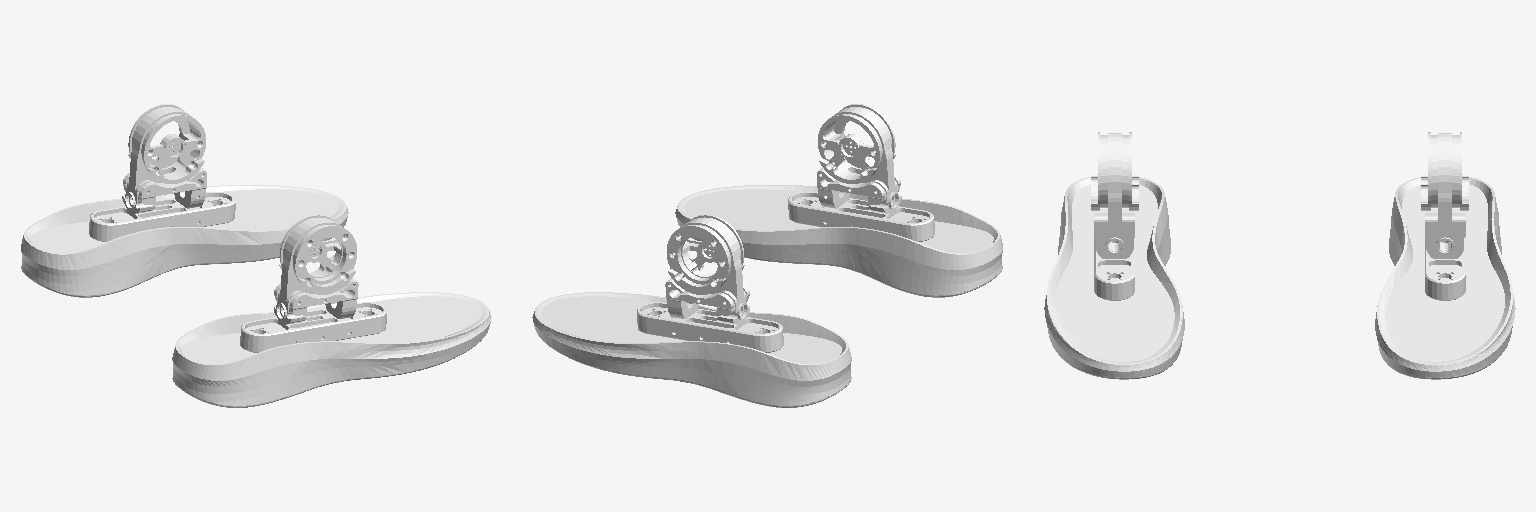
robot.urdf — x2:
<robot name="x2">
  <mujoco>
    <compiler meshdir="./meshes" discardvisual="false" />
  </mujoco>


  <link name="pelvis_link">
    <inertial>
      <origin xyz="0 0 0.001" rpy="0 0 0" />
      <mass value="12.1" />
      <inertia ixx="0.00003053" ixy="0.0000000" ixz="0.00000000" iyy="0.00003053" iyz="0.00000000" izz="0.00000500" />
    </inertial>
    <visual>
      <origin xyz="0 0 0" rpy="0 0 0" />
      <geometry>
        <mesh filename="meshes/pelvis_link.STL" />
      </geometry>
      <material name="">
        <color rgba="1 1 1 1" />
      </material>
    </visual>
    <collision>
      <origin xyz="0 0 0" rpy="0 0 0" />
      <geometry>
        <mesh filename="meshes/pelvis_link.STL" />
      </geometry>
    </collision>
  </link>
  <link name="L_hip_yaw_link">
    <inertial>
      <origin xyz="-0.0005618 0.01983101 0.00885104" rpy="0 0 0" />
      <mass value="0.841" />
      <inertia ixx="0.00175231" ixy="0.00003788" ixz="0.00000418" iyy="0.00059335" iyz="-0.00014762" izz="0.00173830" />
    </inertial>
    <visual>
      <origin xyz="0 0 0" rpy="0 0 0" />
      <geometry>
        <mesh filename="meshes/L_hip_yaw_link.STL" />
      </geometry>
      <material name="">
        <color rgba="1 1 1 1" />
      </material>
    </visual>
<!--    <collision>-->
<!--      <origin xyz="0 0 0" rpy="0 0 0" />-->
<!--      <geometry>-->
<!--        <mesh filename="meshes/L_hip_yaw_link.STL" />-->
<!--      </geometry>-->
<!--    </collision> &ndash;&gt;-->
  </link>
  <joint name="L_hip_yaw" type="revolute">
    <origin xyz="0 0 0" rpy="0 0 0" />
    <parent link="pelvis_link" />
    <child link="L_hip_yaw_link" />
    <axis xyz="0 0 1" />
    <limit lower="-0.7854" upper="0.7854" effort="100" velocity="30" />
  </joint>
  <link name="L_hip_roll_link">
    <inertial>
      <origin xyz="-0.03247252 0.00017925 -0.07264839" rpy="0 0 0" />
      <mass value="2.667" />
      <inertia ixx="0.007970422" ixy="-0.00001767" ixz="0.00171027" iyy="0.01086223" iyz="-0.00001804" izz="0.00754180" />
    </inertial>
    <visual>
      <origin xyz="0 0 0" rpy="0 0 0" />
      <geometry>
        <mesh filename="meshes/L_hip_roll_link.STL" />
      </geometry>
      <material name="">
        <color rgba="1 1 1 1" />
      </material>
    </visual>
    <collision>
      <origin xyz="0 0 0" rpy="0 0 0" />
      <geometry>
        <mesh filename="meshes/L_hip_roll_link.STL" />
      </geometry>
    </collision> -->
  </link>
  <joint name="L_hip_roll" type="revolute">
    <origin xyz="-0.0095 0.12 0" rpy="0 0 0" />
    <parent link="L_hip_yaw_link" />
    <child link="L_hip_roll_link" />
    <axis xyz="1 0 0" />
    <limit lower="-0.349" upper="0.524" effort="100" velocity="30" />
  </joint>
  <link name="L_hip_pitch_link">
    <inertial>
      <origin xyz="0.00382921 0 -0.18548450" rpy="0 0 0" />
      <mass value="1.664" />
      <inertia ixx="0.01443710" ixy="0.00000000" ixz="-0.00089513" iyy="0.01484426" iyz="-0.00000003" izz="0.00315739" />
    </inertial>
    <visual>
      <origin xyz="0 0 0" rpy="0 0 0" />
      <geometry>
        <mesh filename="meshes/L_hip_pitch_link.STL" />
      </geometry>
      <material name="">
        <color rgba="1 1 1 1" />
      </material>
    </visual>
    <collision>
      <origin xyz="0 0 0" rpy="0 0 0" />
      <geometry>
        <mesh filename="meshes/L_hip_pitch_link.STL" />
      </geometry>
    </collision>
  </link>
  <joint name="L_hip_pitch" type="revolute">
    <origin xyz="0.0085 -0.00100000000000001 -0.11" rpy="0 0 0" />
    <parent link="L_hip_roll_link" />
    <child link="L_hip_pitch_link" />
    <axis xyz="0 1 0" />
    <limit lower="-2.4434" upper="0.526" effort="100" velocity="30" />
  </joint>
  <link name="L_knee_pitch_link">
    <inertial>
      <origin xyz="0.00140265 0 -0.15875986" rpy="0 0 0" />
      <mass value="1.125" />
      <inertia ixx="0.00985892" ixy="0.00000000" ixz="0.00035856" iyy="0.00999859" iyz="-0.00000003" izz="0.00102379" />
    </inertial>
    <visual>
      <origin xyz="0 0 0" rpy="0 0 0" />
      <geometry>
        <mesh filename="meshes/L_knee_pitch_link.STL" />
      </geometry>
      <material name="">
        <color rgba="1 1 1 1" />
      </material>
    </visual>
    <collision>
      <origin xyz="0 0 0" rpy="0 0 0" />
      <geometry>
        <mesh filename="meshes/L_knee_pitch_link.STL" />
      </geometry>
    </collision>
  </link>
  <joint name="L_knee_pitch" type="revolute">
    <origin xyz="0 0 -0.35" rpy="0 0 0" />
    <parent link="L_hip_pitch_link" />
    <child link="L_knee_pitch_link" />
    <axis xyz="0 1 0" />
    <limit lower="-0" upper="2.3561" effort="100" velocity="30" />
  </joint>
  <link name="L_ankle_pitch_link">
    <inertial>
      <origin xyz="0.0393987623680991 -0.000237277713772188 -0.0784143417886232" rpy="0 0 0" />
      <mass value="0.556154115746433" />
       <inertia ixx="0.00032584056406277" ixy="-3.52704729229917E-06" ixz="-3.15470198590693E-05" iyy="0.00243296196329658" iyz="3.92516794179968E-07" izz="0.00260484732439791" />
<!--      <inertia ixx="0.01" ixy="0" ixz="-2.9E-06" iyy="0.01" iyz="0" izz="0.01"/>-->
    </inertial>
    <visual>
      <origin xyz="0 0 0" rpy="0 0.07 0" />
      <geometry>
        <mesh filename="meshes/L_ankle_pitch_link.STL" />
      </geometry>
      <material name="">
        <color rgba="1 1 1 1" />
      </material>
    </visual>
    <collision><origin xyz="-0.12   0     -0.095"/><geometry><sphere radius="0.005"/></geometry></collision>
    <collision><origin xyz="-0.09   0.039 -0.095"/><geometry><sphere radius="0.005"/></geometry></collision>
    <collision><origin xyz="-0.09  -0.039 -0.095"/><geometry><sphere radius="0.005"/></geometry></collision>
    <collision><origin xyz="0.12    0.035 -0.095"/><geometry><sphere radius="0.005"/></geometry></collision>
    <collision><origin xyz="0.12   -0.043 -0.095"/><geometry><sphere radius="0.005"/></geometry></collision>
    <collision><origin xyz="0.15   -0.01  -0.095"/><geometry><sphere radius="0.005"/></geometry></collision>
  </link>
  <joint name="L_ankle_pitch" type="revolute">
    <origin xyz="0 0 -0.35" rpy="0 0 0" />
    <parent link="L_knee_pitch_link" />
    <child link="L_ankle_pitch_link" />
    <axis xyz="0 1 0" />
    <limit lower="-1.2217" upper="1.2217" effort="50" velocity="30" />
  </joint>
  <link name="R_hip_yaw_link">
    <inertial>
      <origin xyz="-0.00116447172536395 -0.0404494528952502 1.93208404151757E-18" rpy="0 0 0" />
      <mass value="0.21920189004537" />
      <inertia ixx="0.00059823911672333" ixy="-1.52005393557497E-05" ixz="-6.79522760641359E-21" iyy="0.000157505412929931" iyz="2.64697796016969E-20" izz="0.000555362014045214" />
    </inertial>
    <visual>
      <origin xyz="0 0 0" rpy="0 0 0" />
      <geometry>
        <mesh filename="meshes/R_hip_yaw_link.STL" />
      </geometry>
      <material name="">
        <color rgba="1 1 1 1" />
      </material>
    </visual>
<!--    <collision>-->
<!--      <origin xyz="0 0 0" rpy="0 0 0" />-->
<!--      <geometry>-->
<!--        <mesh filename="meshes/R_hip_yaw_link.STL" />-->
<!--      </geometry>-->
<!--    </collision> &ndash;&gt;-->
  </link>
  <joint name="R_hip_yaw" type="revolute">
    <origin xyz="0 0 0" rpy="0 0 0" />
    <parent link="pelvis_link" />
    <child link="R_hip_yaw_link" />
    <axis xyz="0 0 1" />
    <limit lower="-0.7854" upper="0.7854" effort="100" velocity="30" />
  </joint>
  <link name="R_hip_roll_link">
    <inertial>
      <origin xyz="-0.03247252 0.00017925 -0.07264839" rpy="0 0 0" />
      <mass value="2.667" />
      <inertia ixx="0.007970422" ixy="-0.00001767" ixz="0.00171027" iyy="0.01086223" iyz="-0.00001804" izz="0.00754180" />
    </inertial>
    <visual>
      <origin xyz="0 0 0" rpy="0 0 0" />
      <geometry>
        <mesh filename="meshes/R_hip_roll_link.STL" />
      </geometry>
      <material name="">
        <color rgba="1 1 1 1" />
      </material>
    </visual>
    <collision>
      <origin xyz="0 0 0" rpy="0 0 0" />
      <geometry>
        <mesh filename="meshes/R_hip_roll_link.STL" />
      </geometry>
    </collision> -->
  </link>
  <joint name="R_hip_roll" type="revolute">
    <origin xyz="-0.0095 -0.12 0" rpy="0 0 0" />
    <parent link="R_hip_yaw_link" />
    <child link="R_hip_roll_link" />
    <axis xyz="1 0 0" />
    <limit lower="-0.524" upper="0.349" effort="100" velocity="30" />
  </joint>
  <link name="R_hip_pitch_link">
    <inertial>
      <origin xyz="0.00382921 0 -0.1854850" rpy="0 0 0" />
      <mass value="1.664" />
      <inertia ixx="0.01443710" ixy="-0.00000000" ixz="-0.00089513" iyy="0.01484426" iyz="0.00000003" izz="0.00315739" />
    </inertial>
    <visual>
      <origin xyz="0 0 0" rpy="0 0 0" />
      <geometry>
        <mesh filename="meshes/R_hip_pitch_link.STL" />
      </geometry>
      <material name="">
        <color rgba="1 1 1 1" />
      </material>
    </visual>
    <collision>
      <origin xyz="0 0 0" rpy="0 0 0" />
      <geometry>
        <mesh filename="meshes/R_hip_pitch_link.STL" />
      </geometry>
    </collision>
  </link>
  <joint name="R_hip_pitch" type="revolute">
    <origin xyz="0.0085 -0.001 -0.11" rpy="0 0 0" />
    <parent link="R_hip_roll_link" />
    <child link="R_hip_pitch_link" />
    <axis xyz="0 1 0" />
    <limit lower="-2.4434" upper="0.526" effort="100" velocity="30" />
  </joint>
  <link name="R_knee_pitch_link">
    <inertial>
      <origin xyz="0.00140265 0 -0.15875986" rpy="0 0 0" />
      <mass value="1.125" />
      <inertia ixx="0.00985892" ixy="-0.00000000" ixz="0.00035856" iyy="0.00999859" iyz="0.00000003" izz="0.00102379" />
    </inertial>
    <visual>
      <origin xyz="0 0 0" rpy="0 0 0" />
      <geometry>
        <mesh filename="meshes/R_knee_pitch_link.STL" />
      </geometry>
      <material name="">
        <color rgba="1 1 1 1" />
      </material>
    </visual>
    <collision>
      <origin xyz="0 0 0" rpy="0 0 0" />
      <geometry>
        <mesh filename="meshes/R_knee_pitch_link.STL" />
      </geometry>
    </collision>
  </link>
  <joint name="R_knee_pitch" type="revolute">
    <origin xyz="0 0 -0.35" rpy="0 0 0" />
    <parent link="R_hip_pitch_link" />
    <child link="R_knee_pitch_link" />
    <axis xyz="0 1 0" />
    <limit lower="-0" upper="2.3561" effort="100" velocity="30" />
  </joint>
  <link name="R_ankle_pitch_link">
    <inertial>
      <origin xyz="0.0393998134614837 0.000237080400869755 -0.078414481781949" rpy="0 0 0" />
      <mass value="0.556160945494453" />
       <inertia ixx="0.00032584056406277" ixy="3.52704729229917E-06" ixz="-3.15470198590693E-05" iyy="0.00243296196329658" iyz="-3.92516794179968E-07" izz="0.00260484732439791" />
<!--      <inertia ixx="0.01" ixy="0" ixz="-2.9E-06" iyy="0.01" iyz="0" izz="0.01"/>-->
    </inertial>
    <visual>
      <origin xyz="0 0 0" rpy="0 0.07 0" />
      <geometry>
        <mesh filename="meshes/R_ankle_pitch_link.STL" />
      </geometry>
      <material name="">
        <color rgba="1 1 1 1" />
      </material>
    </visual>
    <collision><origin xyz="-0.12   0     -0.095"/><geometry><sphere radius="0.005"/></geometry></collision>
    <collision><origin xyz="-0.09   0.039 -0.095"/><geometry><sphere radius="0.005"/></geometry></collision>
    <collision><origin xyz="-0.09  -0.039 -0.095"/><geometry><sphere radius="0.005"/></geometry></collision>
    <collision><origin xyz="0.12   -0.035 -0.095"/><geometry><sphere radius="0.005"/></geometry></collision>
    <collision><origin xyz="0.12    0.043 -0.095"/><geometry><sphere radius="0.005"/></geometry></collision>
    <collision><origin xyz="0.15    0.01  -0.095"/><geometry><sphere radius="0.005"/></geometry></collision>
  </link>
  <joint name="R_ankle_pitch" type="revolute">
    <origin xyz="0 0 -0.35" rpy="0 0 0" />
    <parent link="R_knee_pitch_link" />
    <child link="R_ankle_pitch_link" />
    <axis xyz="0 1 0" />
    <limit lower="-1.2217" upper="1.2217" effort="50" velocity="20" />
  </joint>
  <link name="waist_yaw_link">
    <inertial>
      <origin xyz="-0.00574 0 0.18601" rpy="0 0 0" />
      <mass value="14.129" />
      <inertia ixx="0.16142168" ixy="-0.00000008" ixz="-0.00055992" iyy="0.14544225" iyz="-0.00000008" izz="0.08278995" />
    </inertial>
    <visual>
      <origin xyz="0 0 0" rpy="0 0 0" />
      <geometry>
        <mesh filename="meshes/waist_yaw_link.STL" />
      </geometry>
      <material name="">
        <color rgba="1 1 1 1" />
      </material>
    </visual>
<!--    <collision>-->
<!--      <origin xyz="0 0 0" rpy="0 0 0" />-->
<!--      <geometry>-->
<!--        <mesh filename="meshes/waist_yaw_link.STL" />-->
<!--      </geometry>-->
<!--    </collision>-->
  </link>
  <joint name="waist_yaw" type="fixed">
    <origin xyz="0 0 0.08375" rpy="0 0 0" />
    <parent link="pelvis_link" />
    <child link="waist_yaw_link" />
    <axis xyz="0 0 1" />
    <limit lower="-1.047" upper="1.047" effort="60" velocity="43" />
  </joint>
  <link name="torso_link">
    <inertial>
      <origin xyz="0.07801 0.00014123 0.21228" rpy="0 0 0" />
      <mass value="0.0051207" />
      <inertia ixx="1.2629E-06" ixy="-5.8501E-11" ixz="4.3873E-07" iyy="1.0993E-06" iyz="5.4154E-10" izz="9.4943E-07" />
    </inertial>
    <visual>
      <origin xyz="0 0 0" rpy="0 0 0" />
      <geometry>
        <mesh filename="meshes/torso_link.STL" />
      </geometry>
      <material name="">
        <color rgba="0.823529411764706 0.823529411764706 0.823529411764706 1" />
      </material>
    </visual>
<!--    <collision>-->
<!--      <origin xyz="0 0 0" rpy="0 0 0" />-->
<!--      <geometry>-->
<!--        <mesh filename="meshes/torso_link.STL" />-->
<!--      </geometry>-->
<!--    </collision>-->
  </link>
  <joint name="torso" type="fixed">
    <origin xyz="0 0 0.03675" rpy="0 0 0" />
    <parent link="waist_yaw_link" />
    <child link="torso_link" />
    <axis xyz="0 0 0" />
  </joint>
  <link name="logo_link">
    <inertial>
      <origin xyz="0.0780100780349841 0.000141230703059829 0.212276372633898" rpy="0 0 0" />
      <mass value="0.00512067007990884" />
      <inertia ixx="1.26286978002528E-06" ixy="-5.85012656774689E-11" ixz="4.38730918441945E-07" iyy="1.09931895773858E-06" iyz="5.41542411728218E-10" izz="9.49430143120174E-07" />
    </inertial>
    <visual>
      <origin xyz="0 0 0" rpy="0 0 0" />
      <geometry>
        <mesh filename="meshes/logo_link.STL" />
      </geometry>
      <material name="">
        <color rgba="1 0 0 1" />
      </material>
    </visual>
<!--    <collision>-->
<!--      <origin xyz="0 0 0" rpy="0 0 0" />-->
<!--      <geometry>-->
<!--        <mesh filename="meshes/logo_link.STL" />-->
<!--      </geometry>-->
<!--    </collision>-->
  </link>
  <joint name="logo" type="fixed">
    <origin xyz="0 0 0" rpy="0 0 0" />
    <parent link="torso_link" />
    <child link="logo_link" />
    <axis xyz="0 0 0" />
  </joint>
  <link name="head_link">
    <inertial>
      <origin xyz="0.01547561 0 0.16472894" rpy="0 0 0" />
      <mass value="1.67" />
      <inertia ixx="0.00882503" ixy="0.00000000" ixz="0.00010108" iyy="0.01008134" iyz="0.00000000" izz="0.00524807" />
    </inertial>
    <visual>
      <origin xyz="0 0 0" rpy="0 0 0" />
      <geometry>
        <mesh filename="meshes/head_link.STL" />
      </geometry>
      <material name="">
        <color rgba="1 1 1 1" />
      </material>
    </visual>
    <collision>
      <origin xyz="0 0 0" rpy="0 0 0" />
      <geometry>
        <mesh filename="meshes/head_link.STL" />
      </geometry>
    </collision>
  </link>
  <joint name="head" type="fixed">
    <origin xyz="0 0 0.3645" rpy="0 0 0" />
    <parent link="torso_link" />
    <child link="head_link" />
    <axis xyz="0 0 1" />
    <limit lower="-1.571" upper="1.571" effort="50" velocity="5" />
  </joint>
  <link name="L_shoulder_pitch_link">
    <inertial>
      <origin xyz="0 0.02870482 0.00006450" rpy="0 0 0" />
      <mass value="0.08" />
      <inertia ixx="0.00004183" ixy="0.00000000" ixz="0.00000000" iyy="0.00006966" iyz="0.00000004" izz="0.00009307" />
    </inertial>
    <visual>
      <origin xyz="0 0 0" rpy="0 0 0" />
      <geometry>
        <mesh filename="meshes/L_shoulder_pitch_link.STL" />
      </geometry>
      <material name="">
        <color rgba="1 1 1 1" />
      </material>
    </visual>
    <collision>
      <origin xyz="0 0 0" rpy="0 0 0" />
      <geometry>
        <mesh filename="meshes/L_shoulder_pitch_link.STL" />
      </geometry>
    </collision>
  </link>
  <joint name="L_shoulder_pitch" type="revolute">
    <origin xyz="-0.01 0.14477 0.31534" rpy="0.17453 0 0" />
    <parent link="torso_link" />
    <child link="L_shoulder_pitch_link" />
    <axis xyz="0 1 0" />
    <limit lower="-2" upper="2" effort="30" velocity="30" />
  </joint>
  <link name="L_shoulder_roll_link">
    <inertial>
      <origin xyz="-0.00014962 0.00021332 -0.04253615" rpy="0 0 0" />
      <mass value="0.8" />
      <inertia ixx="0.00053581" ixy="0.00000000" ixz="-0.00000191" iyy="0.00055551" iyz="-0.00000262" izz="0.00012232" />
    </inertial>
    <visual>
      <origin xyz="0 0 0" rpy="0 0 0" />
      <geometry>
        <mesh filename="meshes/L_shoulder_roll_link.STL" />
      </geometry>
      <material name="">
        <color rgba="1 1 1 1" />
      </material>
    </visual>
    <collision>
      <origin xyz="0 0 0" rpy="0 0 0" />
      <geometry>
        <mesh filename="meshes/L_shoulder_roll_link.STL" />
      </geometry>
    </collision>
  </link>
  <joint name="L_shoulder_roll" type="revolute">
<!--    <origin xyz="0 0.061 0" rpy="-0.17453 0 0" />-->
    <origin xyz="0 0.061 0" rpy="0 0 0" />
    <parent link="L_shoulder_pitch_link" />
    <child link="L_shoulder_roll_link" />
    <axis xyz="1 0 0" />
    <limit lower="-0.35" upper="1.57" effort="30" velocity="30" />
  </joint>
  <link name="L_shoulder_yaw_link">
    <inertial>
      <origin xyz="0.0049554 -0.00024132 -0.14234" rpy="0 0 0" />
      <mass value="0.5" />
      <inertia ixx="0.00062700" ixy="-0.00000023" ixz="-0.00003710" iyy="0.00060922" iyz="0.00000138" izz="0.00009956" />
    </inertial>
    <visual>
      <origin xyz="0 0 0" rpy="0 0 0" />
      <geometry>
        <mesh filename="meshes/L_shoulder_yaw_link.STL" />
      </geometry>
      <material name="">
        <color rgba="1 1 1 1" />
      </material>
    </visual>
    <collision>
      <origin xyz="0 0 0" rpy="0 0 0" />
      <geometry>
        <mesh filename="meshes/L_shoulder_yaw_link.STL" />
      </geometry>
    </collision>
  </link>
  <joint name="L_shoulder_yaw" type="revolute">
    <origin xyz="0 0 -0.112" rpy="0 0 0" />
    <parent link="L_shoulder_roll_link" />
    <child link="L_shoulder_yaw_link" />
    <axis xyz="0 0 1" />
    <limit lower="-2.618" upper="2.618" effort="30" velocity="30" />
  </joint>
  <link name="L_elbow_pitch_link">
    <inertial>
      <origin xyz="-0.0123066 0 -0.21266023" rpy="0 0 0" />
      <mass value="0.1" />
      <inertia ixx="0.00048799" ixy="0.00000000" ixz="0.00000793" iyy="0.00048799" iyz="0.00000001" izz="0.0000245723" />
    </inertial>
    <visual>
      <origin xyz="0 0 0" rpy="0 0 0" />
      <geometry>
        <mesh filename="meshes/L_elbow_pitch_link.STL" />
      </geometry>
      <material name="">
        <color rgba="1 1 1 1" />
      </material>
    </visual>
    <collision>
      <origin xyz="0 0 0" rpy="0 0 0" />
      <geometry>
        <mesh filename="meshes/L_elbow_pitch_link.STL" />
      </geometry>
    </collision>
  </link>
  <joint name="L_elbow_pitch" type="revolute">
    <origin xyz="0.01 0 -0.173" rpy="0 -1.57 0" />
    <parent link="L_shoulder_yaw_link" />
    <child link="L_elbow_pitch_link" />
    <axis xyz="0 1 0" />
    <limit lower="-2.5" upper="2.5" effort="30" velocity="30" />
  </joint>
  <link name="R_shoulder_pitch_link">
    <inertial>
      <origin xyz="0 -0.02870482 0.00006450" rpy="0 0 0" />
      <mass value="0.08" />
      <inertia ixx="0.00004183" ixy="0.00000000" ixz="0.00000000" iyy="0.00006966" iyz="-0.00000004" izz="0.00009307" />
    </inertial>
    <visual>
      <origin xyz="0 0 0" rpy="0 0 0" />
      <geometry>
        <mesh filename="meshes/R_shoulder_pitch_link.STL" />
      </geometry>
      <material name="">
        <color rgba="1 1 1 1" />
      </material>
    </visual>
    <collision>
      <origin xyz="0 0 0" rpy="0 0 0" />
      <geometry>
        <mesh filename="meshes/R_shoulder_pitch_link.STL" />
      </geometry>
    </collision>
  </link>
  <joint name="R_shoulder_pitch" type="revolute">
    <origin xyz="-0.01 -0.14477 0.31534" rpy="-0.17453 0 0" />
    <parent link="torso_link" />
    <child link="R_shoulder_pitch_link" />
    <axis xyz="0 1 0" />
    <limit lower="-2" upper="2" effort="30" velocity="30" />
  </joint>
  <link name="R_shoulder_roll_link">
    <inertial>
      <origin xyz="0.00014963 -0.00021332 -0.04253615" rpy="0 0 0" />
      <mass value="0.8" />
      <inertia ixx="0.00053581" ixy="0.00000000" ixz="0.00000191" iyy="0.00055551" iyz="0.00000262" izz="0.00012232" />
    </inertial>
    <visual>
      <origin xyz="0 0 0" rpy="0 0 0" />
      <geometry>
        <mesh filename="meshes/R_shoulder_roll_link.STL" />
      </geometry>
      <material name="">
        <color rgba="1 1 1 1" />
      </material>
    </visual>
    <collision>
      <origin xyz="0 0 0" rpy="0 0 0" />
      <geometry>
        <mesh filename="meshes/R_shoulder_roll_link.STL" />
      </geometry>
    </collision>
  </link>
  <joint name="R_shoulder_roll" type="revolute">
<!--    <origin xyz="0 -0.061 0" rpy="0.17453 0 0" />-->
    <origin xyz="0 -0.061 0" rpy="0 0 0" />
    <parent link="R_shoulder_pitch_link" />
    <child link="R_shoulder_roll_link" />
    <axis xyz="1 0 0" />
    <limit lower="-1.57" upper="0.35" effort="30" velocity="30" />
  </joint>
  <link name="R_shoulder_yaw_link">
    <inertial>
      <origin xyz="0.00499440 -0.00024129 -0.14233699" rpy="0 0 0" />
      <mass value="0.5" />
      <inertia ixx="0.00062700" ixy="-0.00000023" ixz="-0.00003710" iyy="0.00060922" iyz="0.00000138" izz="0.00009956" />
    </inertial>
    <visual>
      <origin xyz="0 0 0" rpy="0 0 0" />
      <geometry>
        <mesh filename="meshes/R_shoulder_yaw_link.STL" />
      </geometry>
      <material name="">
        <color rgba="1 1 1 1" />
      </material>
    </visual>
    <collision>
      <origin xyz="0 0 0" rpy="0 0 0" />
      <geometry>
        <mesh filename="meshes/R_shoulder_yaw_link.STL" />
      </geometry>
    </collision>
  </link>
  <joint name="R_shoulder_yaw" type="revolute">
    <origin xyz="-3.8964E-05 0 -0.112" rpy="0 0 0" />
    <parent link="R_shoulder_roll_link" />
    <child link="R_shoulder_yaw_link" />
    <axis xyz="0 0 1" />
    <limit lower="-2.618" upper="2.618" effort="30" velocity="30" />
  </joint>
  <link name="R_elbow_pitch_link">
    <inertial>
      <origin xyz="-0.0123066 0 -0.21266023" rpy="0 0 0" />
      <mass value="0.1" />
      <inertia ixx="0.00048799" ixy="0.00000000" ixz="0.00000793" iyy="0.00048799" iyz="0.00000001" izz="0.0000245723" />
    </inertial>
    <visual>
      <origin xyz="0 0 0" rpy="0 0 0" />
      <geometry>
        <mesh filename="meshes/R_elbow_pitch_link.STL" />
      </geometry>
      <material name="">
        <color rgba="1 1 1 1" />
      </material>
    </visual>
    <collision>
      <origin xyz="0 0 0" rpy="0 0 0" />
      <geometry>
        <mesh filename="meshes/R_elbow_pitch_link.STL" />
      </geometry>
    </collision>
  </link>
  <joint name="R_elbow_pitch" type="revolute">
    <origin xyz="0.010039 0 -0.173" rpy="0 -1.57 0"/>
    <parent link="R_shoulder_yaw_link" />
    <child link="R_elbow_pitch_link" />
    <axis xyz="0 1 0" />
    <limit lower="-2.5" upper="2.5" effort="30" velocity="30" />
  </joint>


</robot>

--- What the picture shows (computed from the rendered views, not written in the file) ---
Views: 3 orthographic renders of the robot side by side, from view 1: azimuth 30°, elevation 25°; view 2: azimuth 150°, elevation 25°; view 3: azimuth 270°, elevation 25°.
Robot: x2 — 23 links, 22 joints (18 revolute, 4 fixed); root link pelvis_link; default pose: all joints at 0.
Visible links, largest first — view 1: R_ankle_pitch_link, L_ankle_pitch_link; view 2: L_ankle_pitch_link, R_ankle_pitch_link; view 3: R_ankle_pitch_link, L_ankle_pitch_link.
Link boxes in pixels (x1,y1,x2,y2): R_ankle_pitch_link: (172,214,491,407); L_ankle_pitch_link: (21,104,348,297); L_ankle_pitch_link: (532,214,851,407); R_ankle_pitch_link: (675,104,1002,297); R_ankle_pitch_link: (1044,132,1184,379); L_ankle_pitch_link: (1375,132,1515,379).
Size in the robot's own frame: 0.2843 by 0.3422 by 0.1281 metres.
2 mesh visuals loaded from 23 distinct referenced files (2 binary STL); not drawn: 21 (reference not matched to a file when rendering).